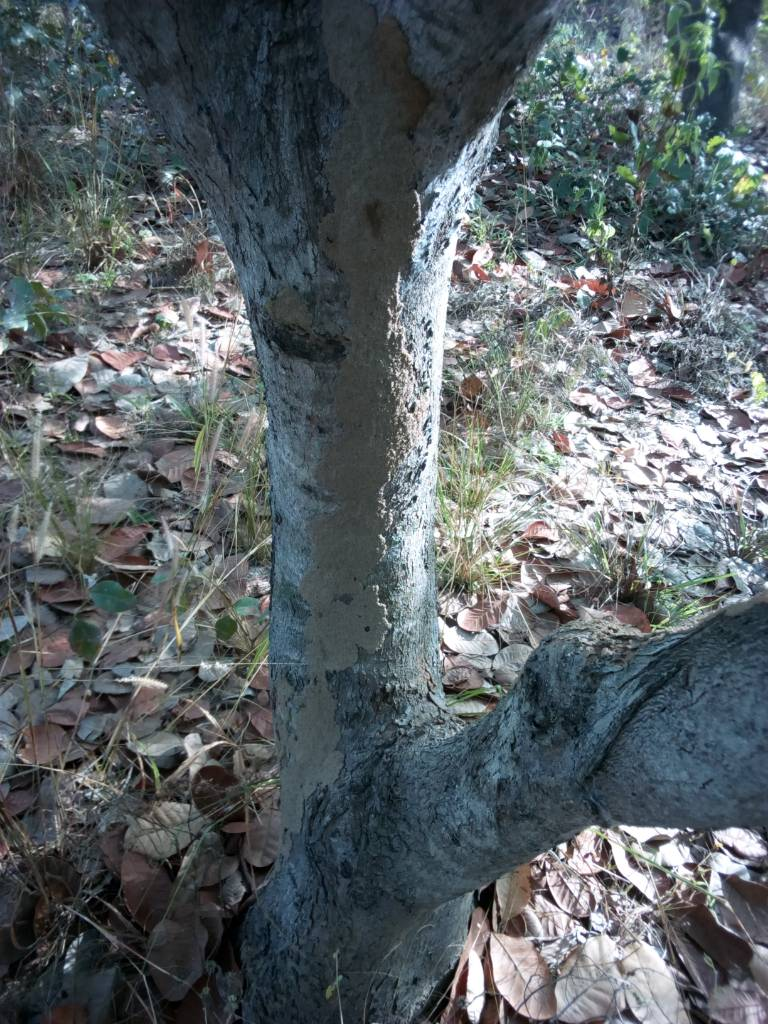Termites: (307, 11, 415, 717)
